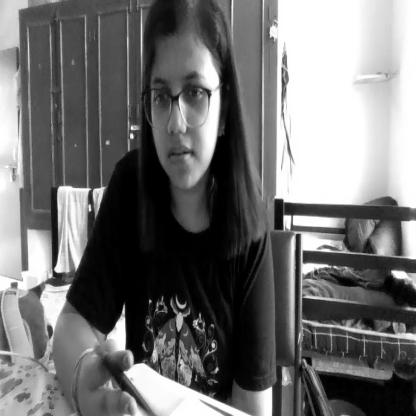Normal: (136, 4, 226, 186)
